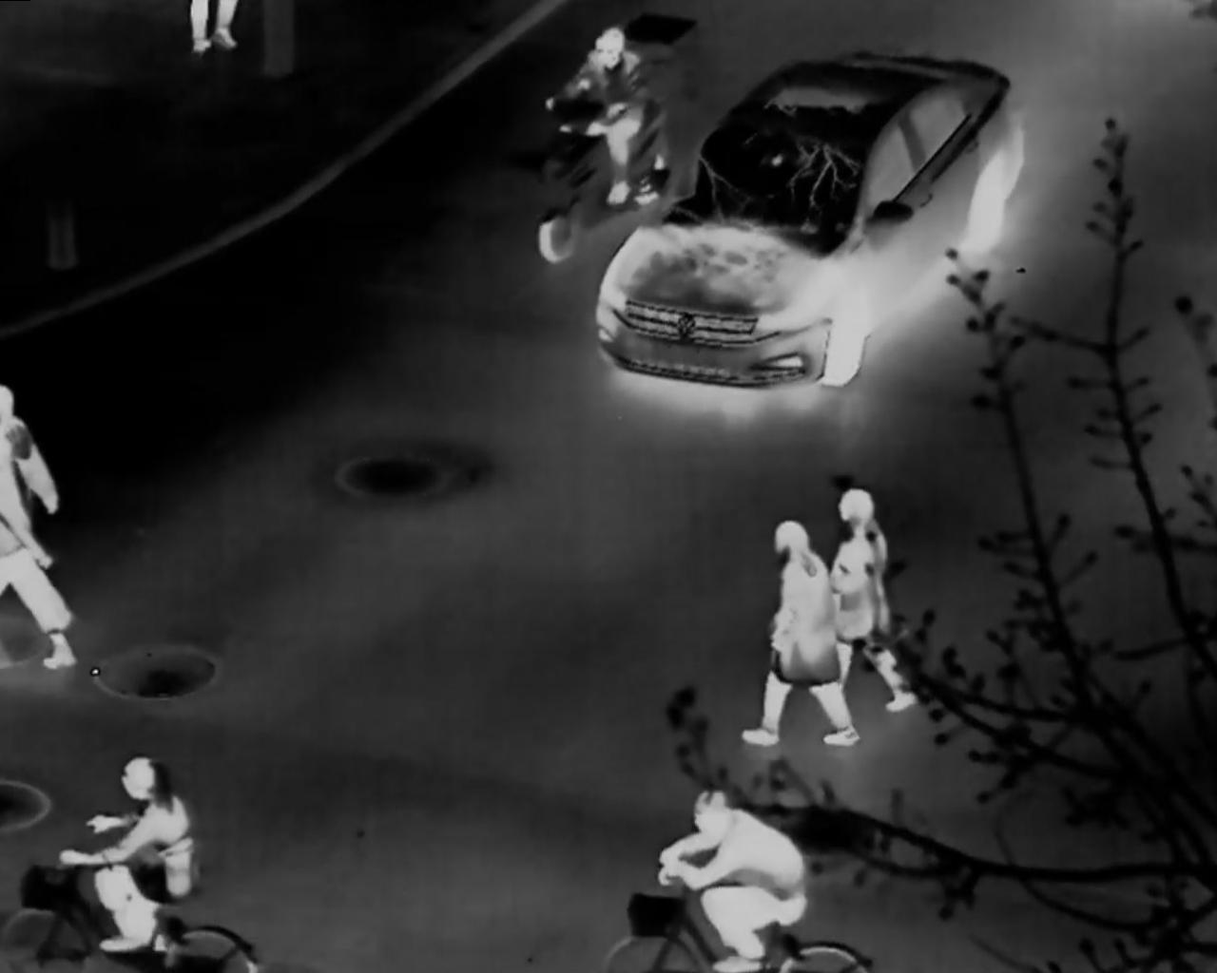person: (57, 753, 206, 956), (654, 788, 807, 973), (737, 517, 857, 749), (828, 485, 918, 714), (539, 27, 647, 207)
